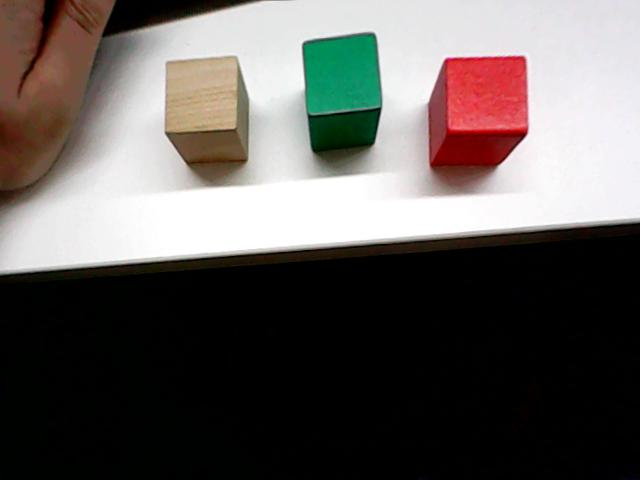green_box: (298, 28, 385, 155)
raw_box: (160, 51, 252, 167)
red_box: (424, 50, 533, 170)
